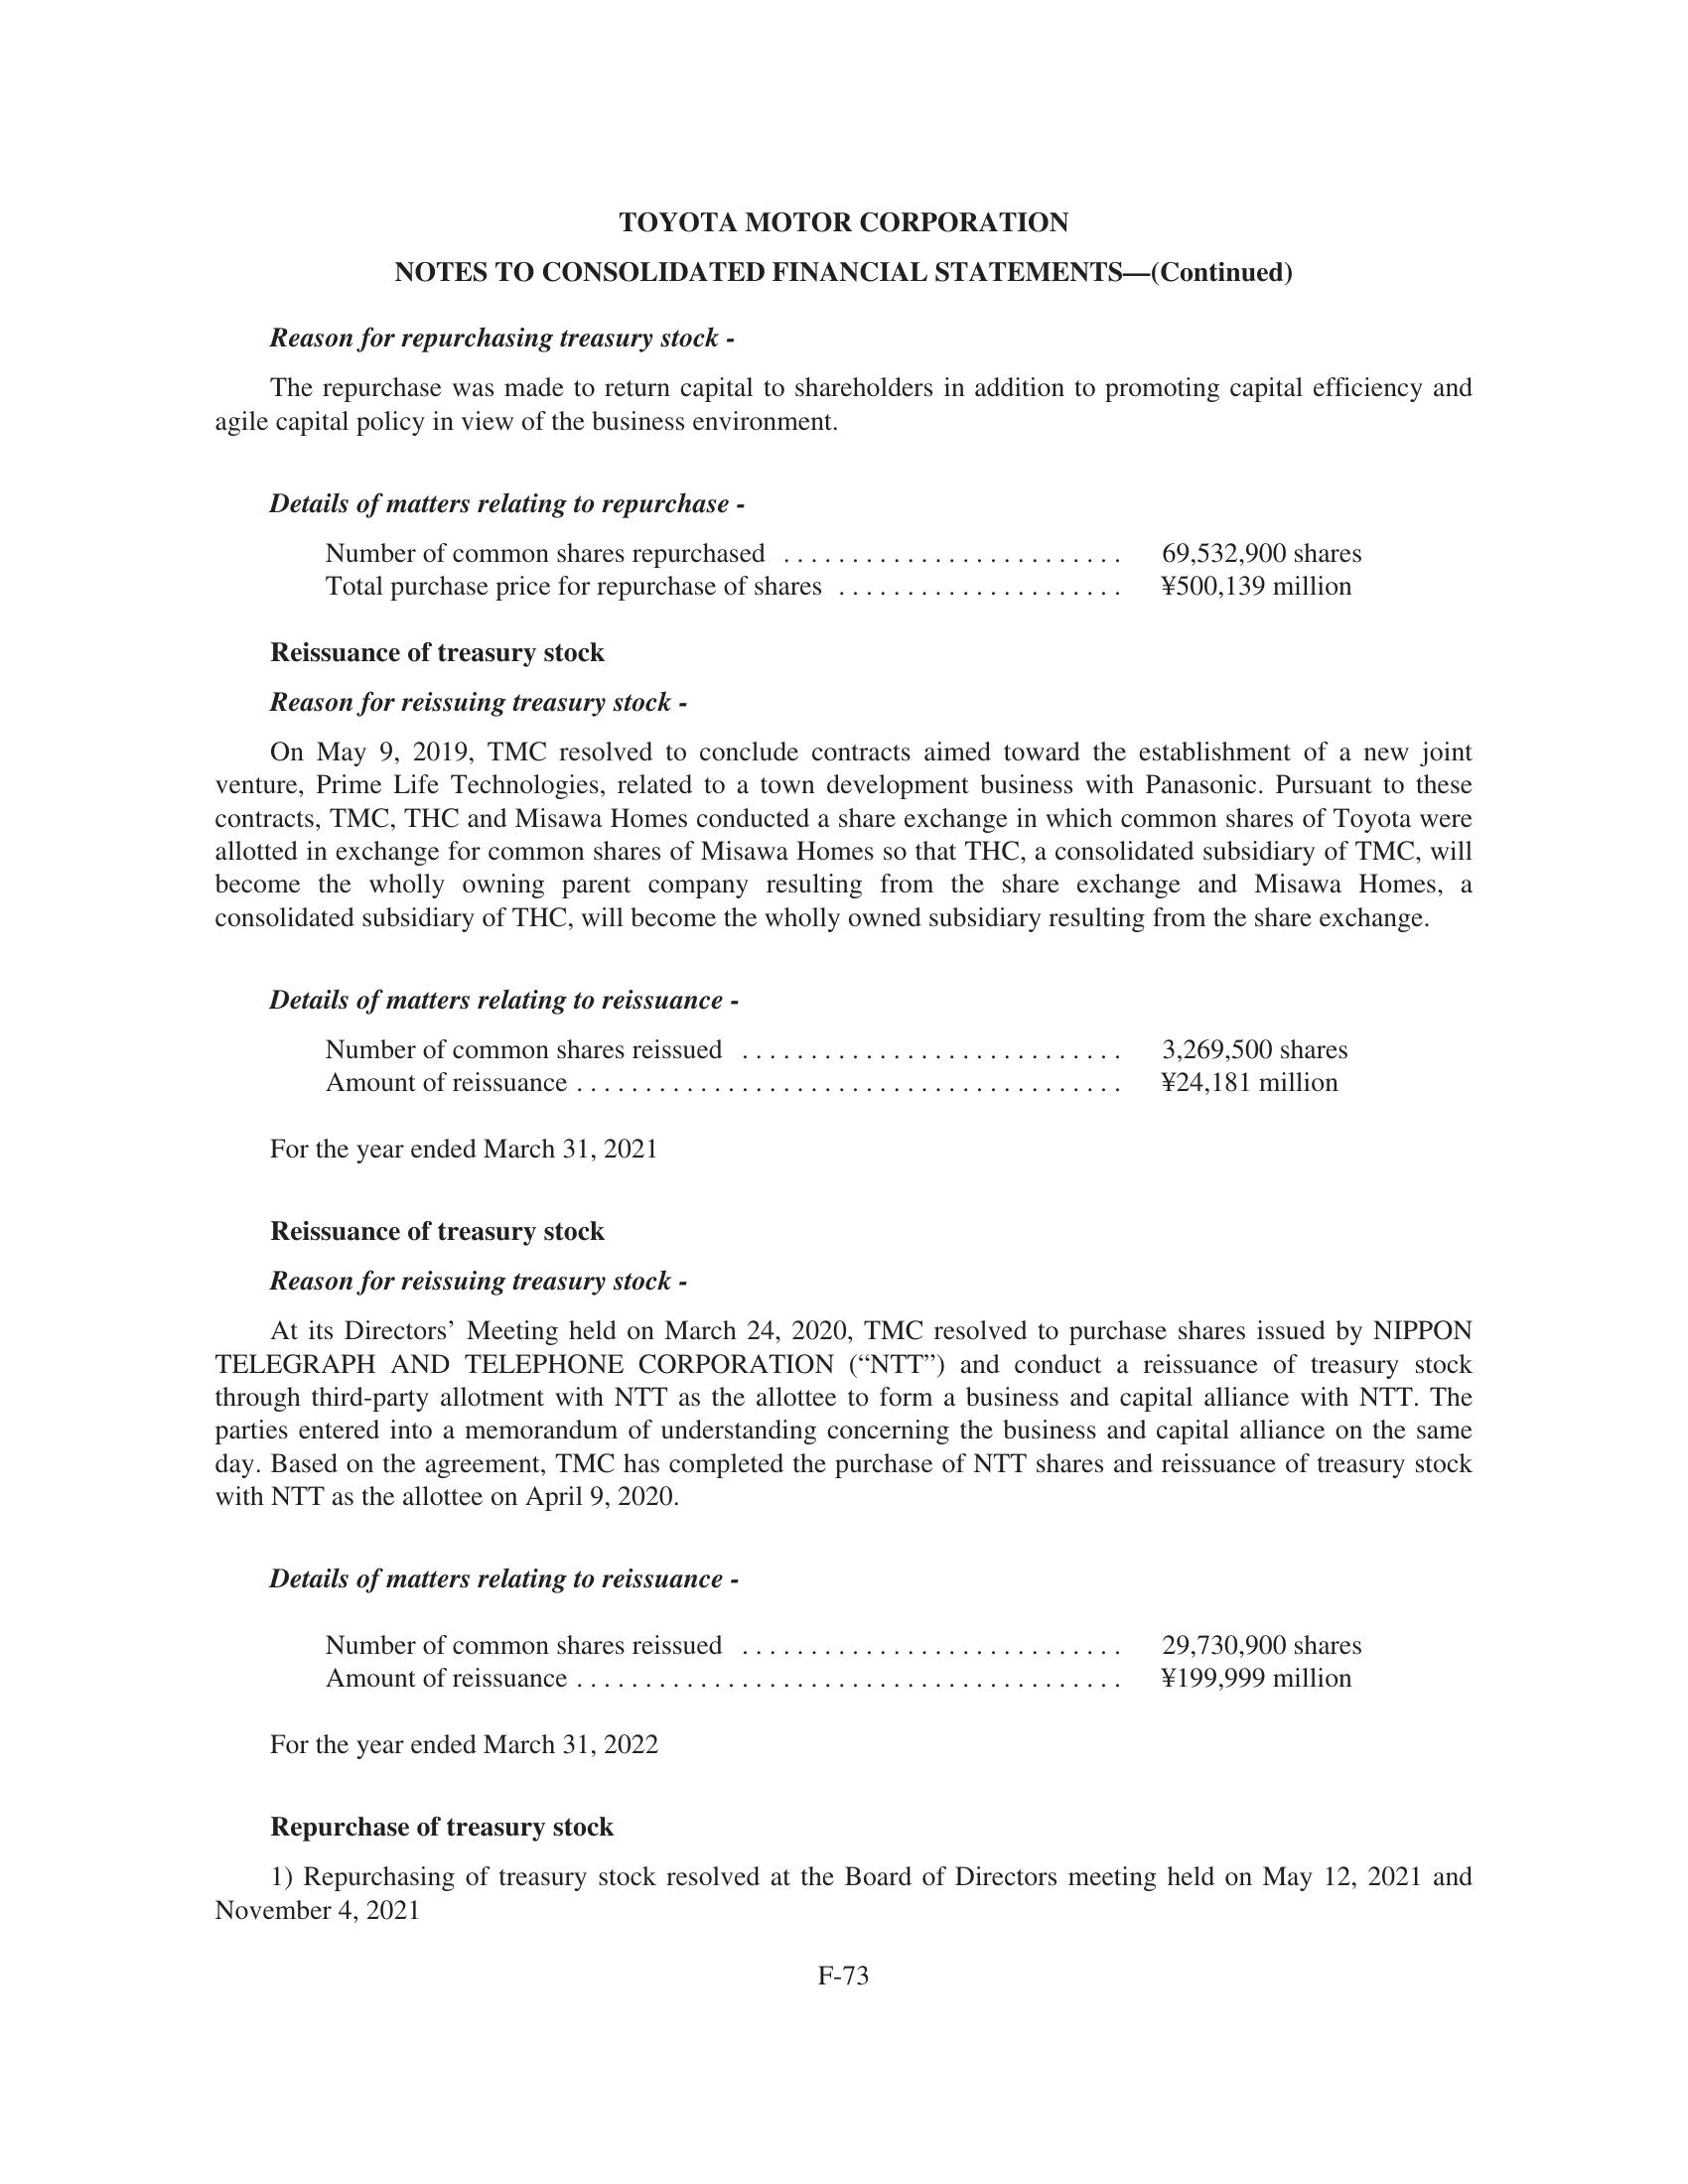Footer: (0, 1959, 1688, 2184)
Header: (0, 0, 1688, 170)
